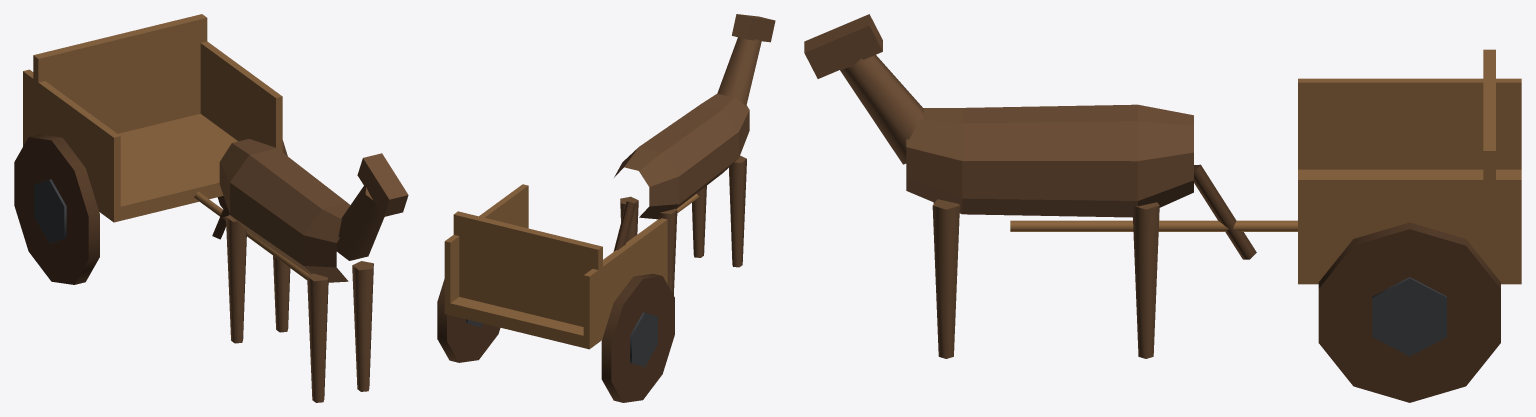
The model's file is veh_ground_chariot_a01.glb.
3 renders of one model, left to right at view 1: azimuth 30°, elevation 25°; view 2: azimuth 150°, elevation 25°; view 3: azimuth 270°, elevation 25°, orthographic. The views are drawn at different scales.
Parts seen in each view (by area): view 1: body, animal_0, wheel_0; view 2: body, animal_0, wheel_0, wheel_1; view 3: animal_0, body, wheel_1.
Boxes of the visible parts, left/top/right/bottom form: body: left=23, top=14, right=309, bottom=279; animal_0: left=212, top=139, right=408, bottom=402; wheel_0: left=14, top=134, right=99, bottom=284; body: left=444, top=184, right=698, bottom=349; animal_0: left=613, top=14, right=775, bottom=295; wheel_0: left=601, top=273, right=674, bottom=402; wheel_1: left=437, top=279, right=500, bottom=362; animal_0: left=804, top=14, right=1256, bottom=358; body: left=1010, top=49, right=1521, bottom=284; wheel_1: left=1318, top=222, right=1500, bottom=402.
Size of what is drawn, in the model's own units: 1.84 by 2.23 by 4.49.
